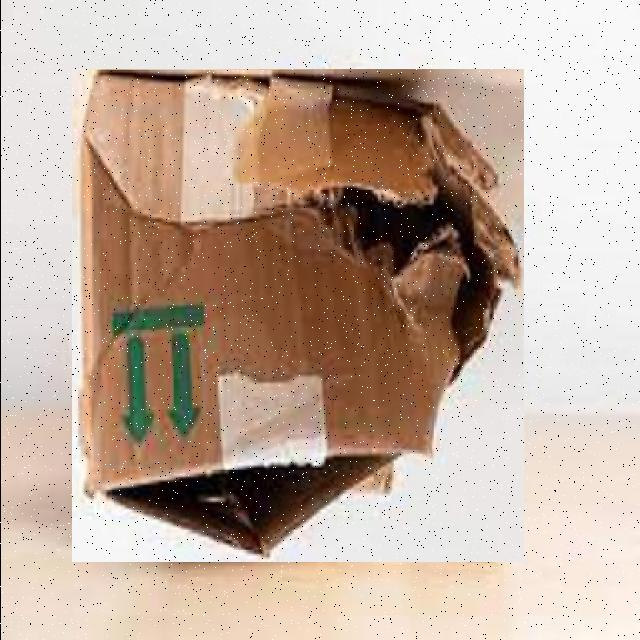defect: (71, 69, 523, 562)
